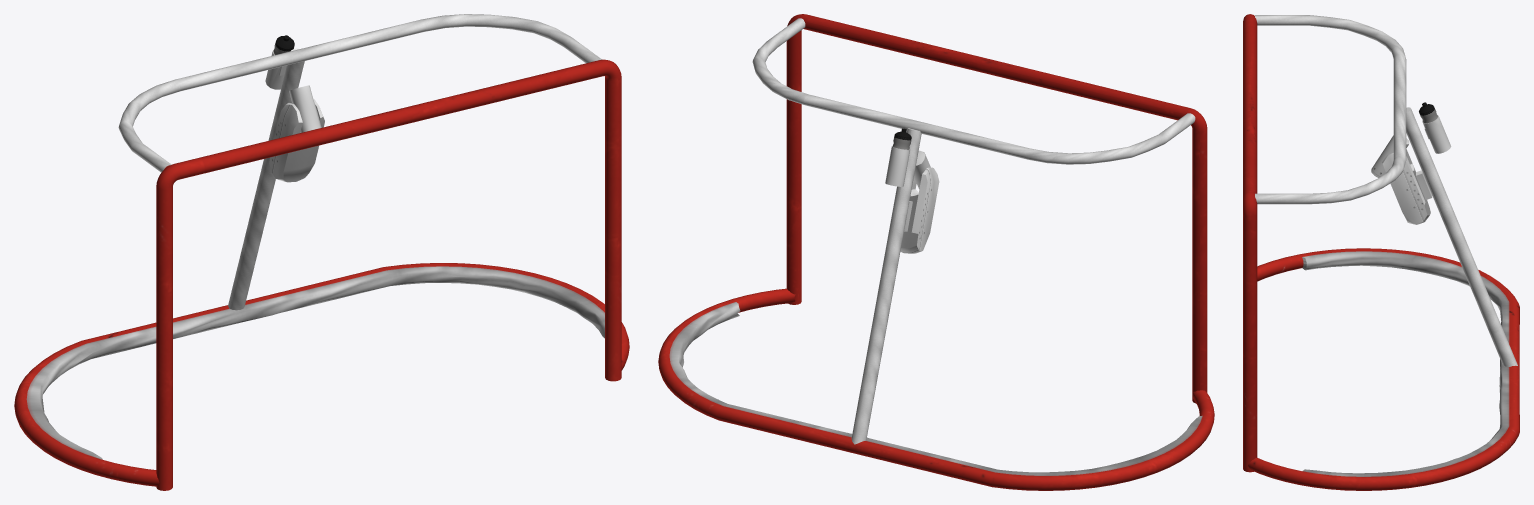
The model's file is Gate.FBX.
3 renders of one model, left to right at view 1: azimuth 30°, elevation 25°; view 2: azimuth 150°, elevation 25°; view 3: azimuth 270°, elevation 25°, orthographic. The views are drawn at different scales.
Parts seen in each view (by area): view 1: Gate; view 2: Gate; view 3: Gate.
Boxes of the visible parts, left/top/right/bottom form: Gate: left=14, top=14, right=629, bottom=490; Gate: left=658, top=14, right=1214, bottom=490; Gate: left=1243, top=14, right=1519, bottom=490.
Size of the model in its own units: 2.26 by 1.23 by 1.13.
